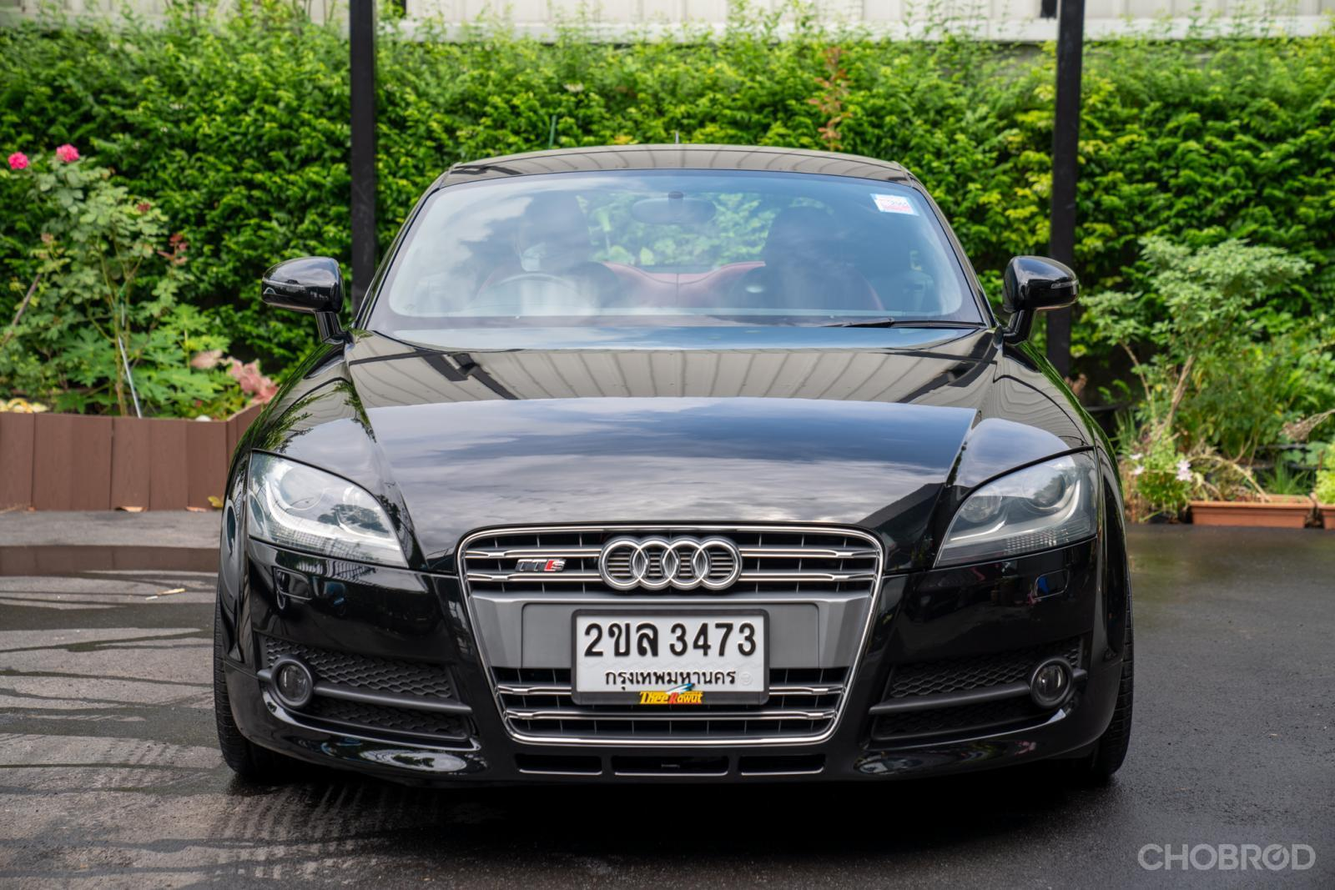license-plate: (566, 603, 774, 712)
